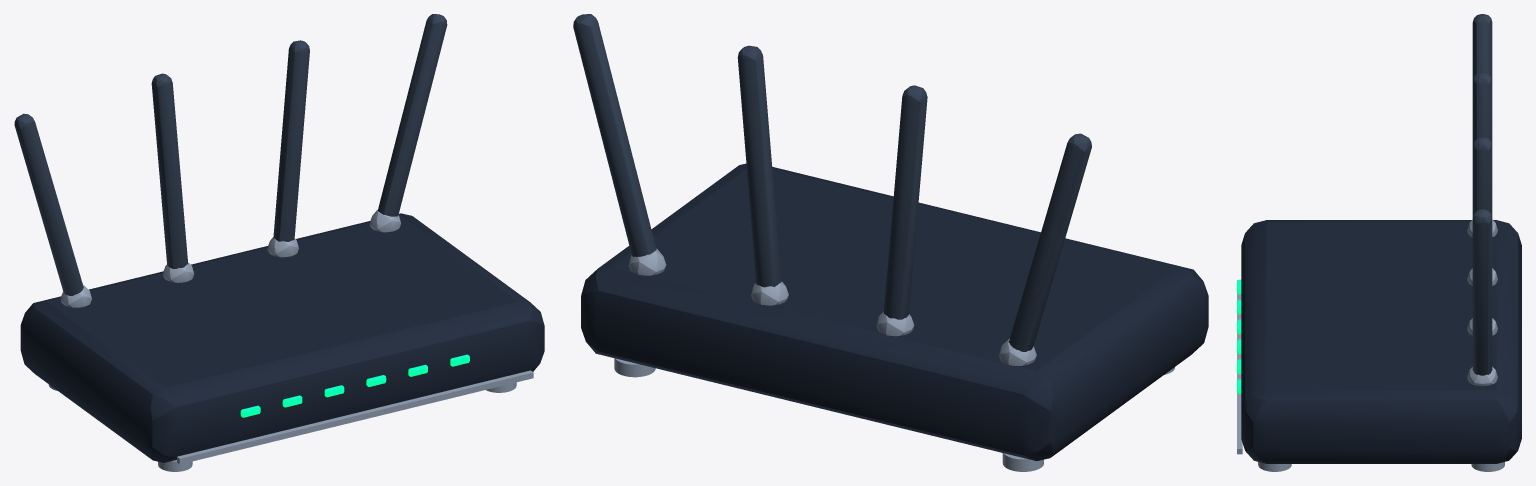
The model's file is router.glb.
3 views of the same model, side by side, from view 1: azimuth 30°, elevation 25°; view 2: azimuth 150°, elevation 25°; view 3: azimuth 270°, elevation 25° (orthographic). The views are drawn at different scales.
Visible parts, largest first — view 1: body, antenna, status; view 2: body, antenna; view 3: body, antenna, status.
Boxes of the visible parts, x1,y1,x2,y2 form: body: (20,210,544,471); antenna: (14,14,447,295); status: (240,354,469,417); body: (581,163,1208,471); antenna: (573,14,1091,351); body: (1237,219,1521,471); antenna: (1472,14,1492,375); status: (1237,279,1241,394).
Bounding box in the file's own units: 1.55 × 1 × 0.9165.
